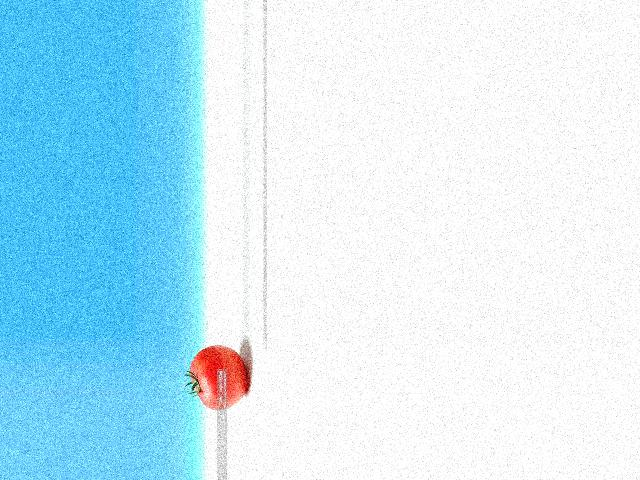tomato: (190, 346, 245, 411)
